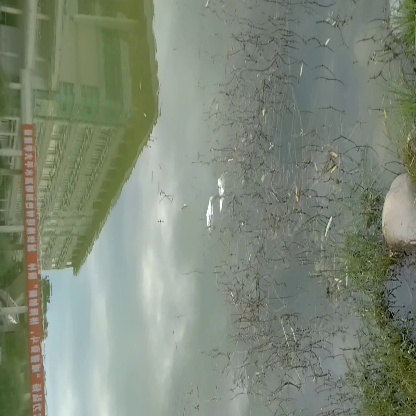plastic-bag: (196, 173, 236, 235)
